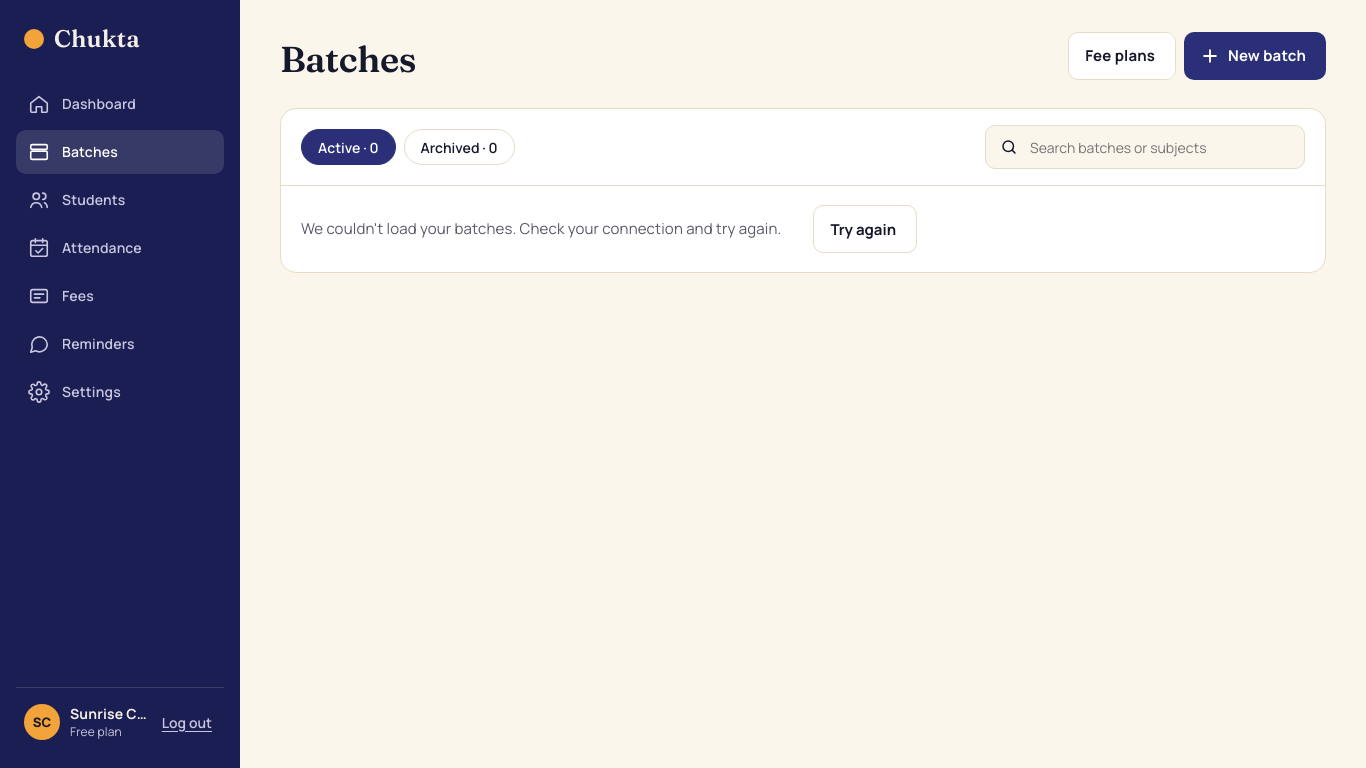
Scenario: /batches › says when the batches couldn't be loaded, instead of showing an empty list, and can retry
Expected: the message shows "We couldn't load your batches.", [301,218,781,239]
Click the button "Try again" at [865, 229], box [813,205,917,253]
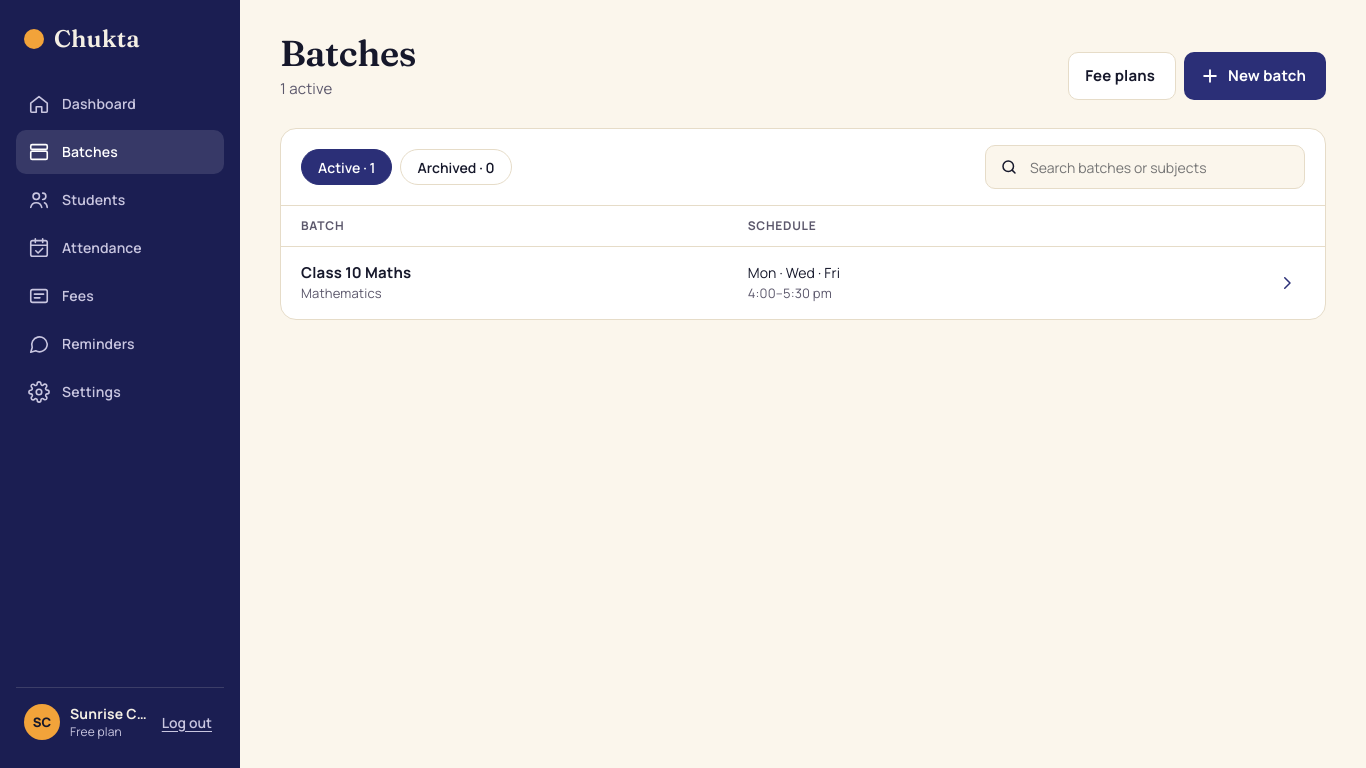
Now the link "Class 10 Maths" is shown, box [301,262,411,283]
